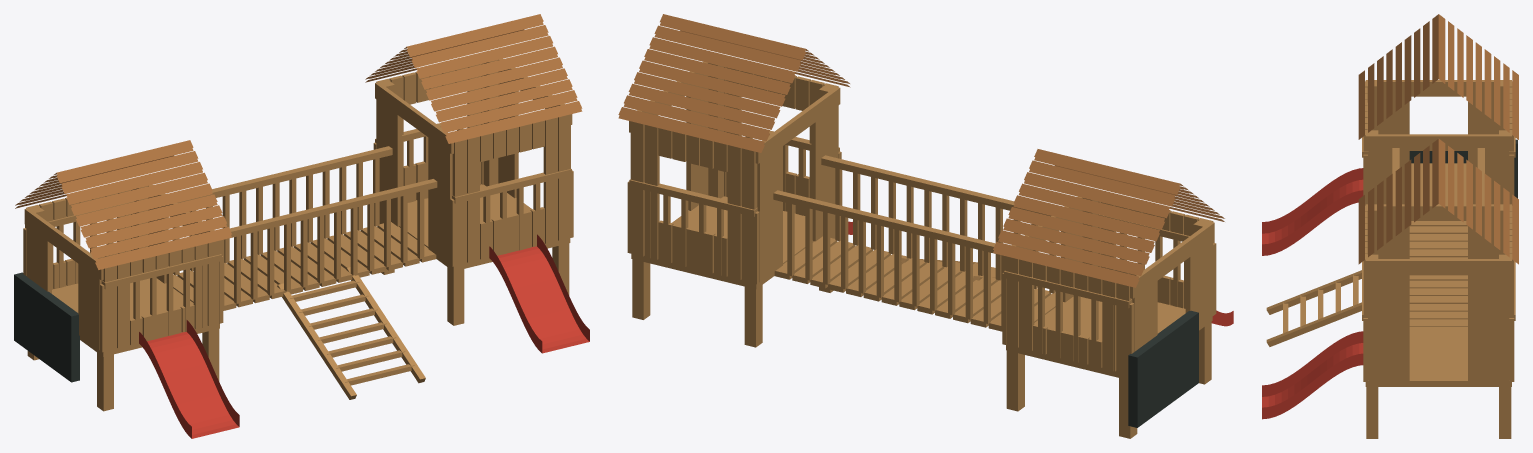
The picture shows the model from 3 angles, left to right: view 1: azimuth 30°, elevation 25°; view 2: azimuth 150°, elevation 25°; view 3: azimuth 270°, elevation 25°; orthographic projection. The views are drawn at different scales.
Visible parts, largest first — view 1: SW-E109; view 2: SW-E109; view 3: SW-E109.
Boxes of the visible parts, <box> form: SW-E109: <box>14,14,589,438</box>; SW-E109: <box>618,14,1233,438</box>; SW-E109: <box>1262,14,1518,438</box>.
Bounding box in the file's own units: 5 × 2.5 × 2.4.
